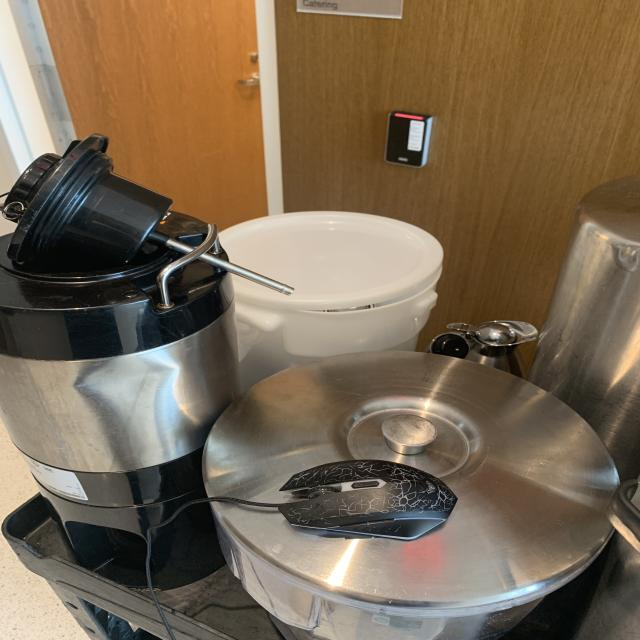Mouse: (237, 454, 466, 552)
